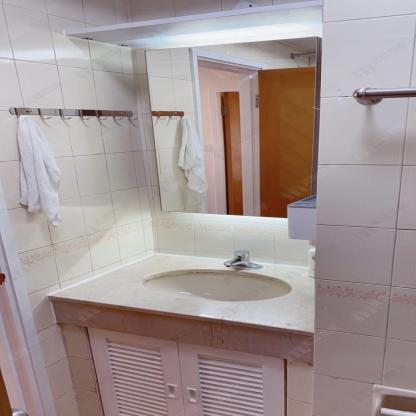Faucet: (216, 246, 265, 270)
Toilet Sink: (50, 252, 316, 364)
